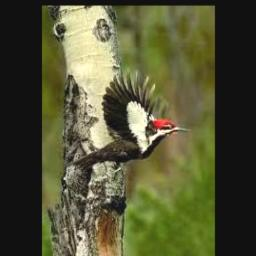Woodpecker: (68, 69, 190, 172)
